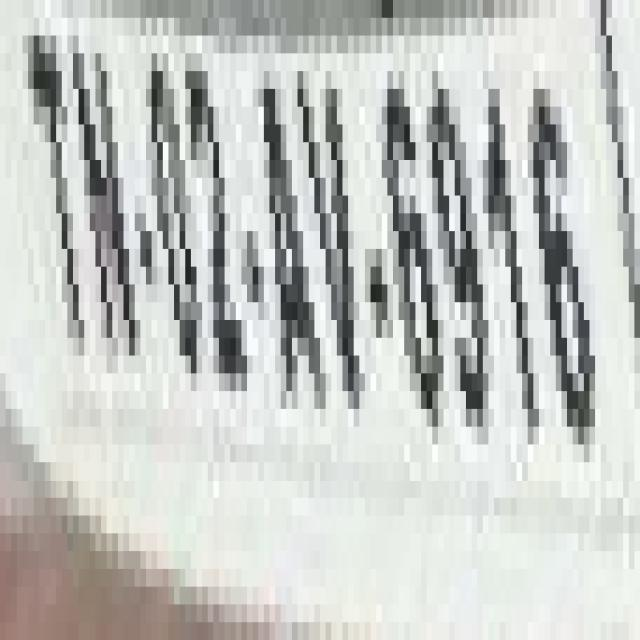license_plate: (22, 18, 640, 586)
